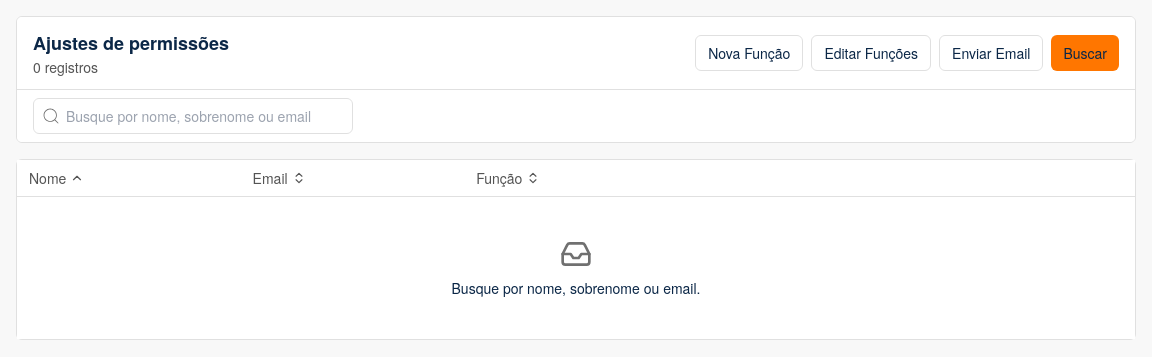
Test: DashRoles no DashListTemplate (usuários 03) › ⚠️ Enter busca com o texto do campo, com o teto de 1000
Type "Maria Silva" into the search field with placeholder "Busque por nome, sobrenome ou email".
click(193, 116); type("Maria Silva")  # box [33, 98, 353, 134]
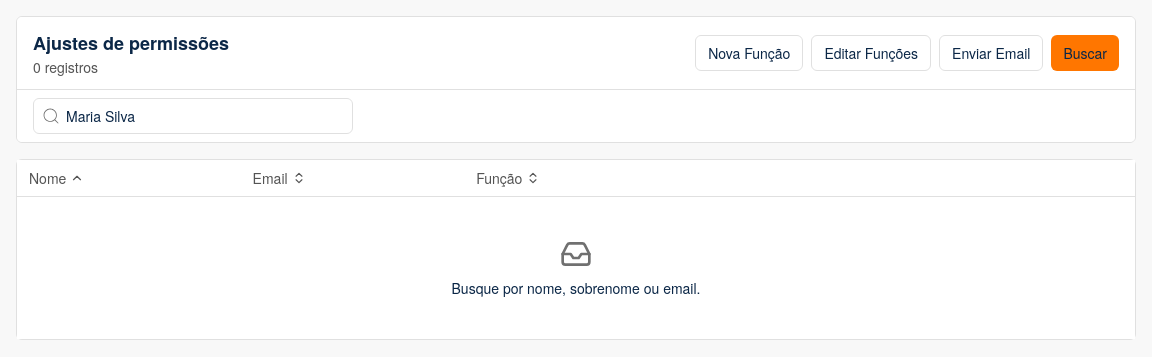
Press Enter in the search field named "Busque por nome, sobrenome ou email", box [33, 98, 353, 134]
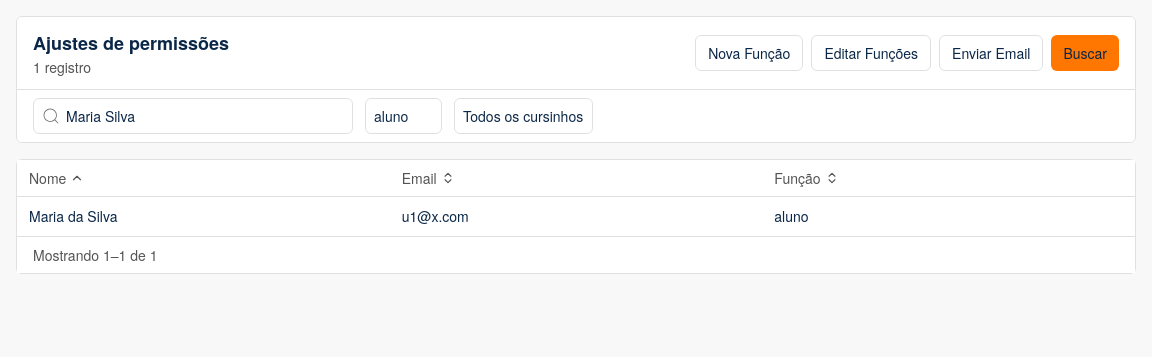
Expected: the text "u1@x.com" is shown, [402, 206, 469, 226]
